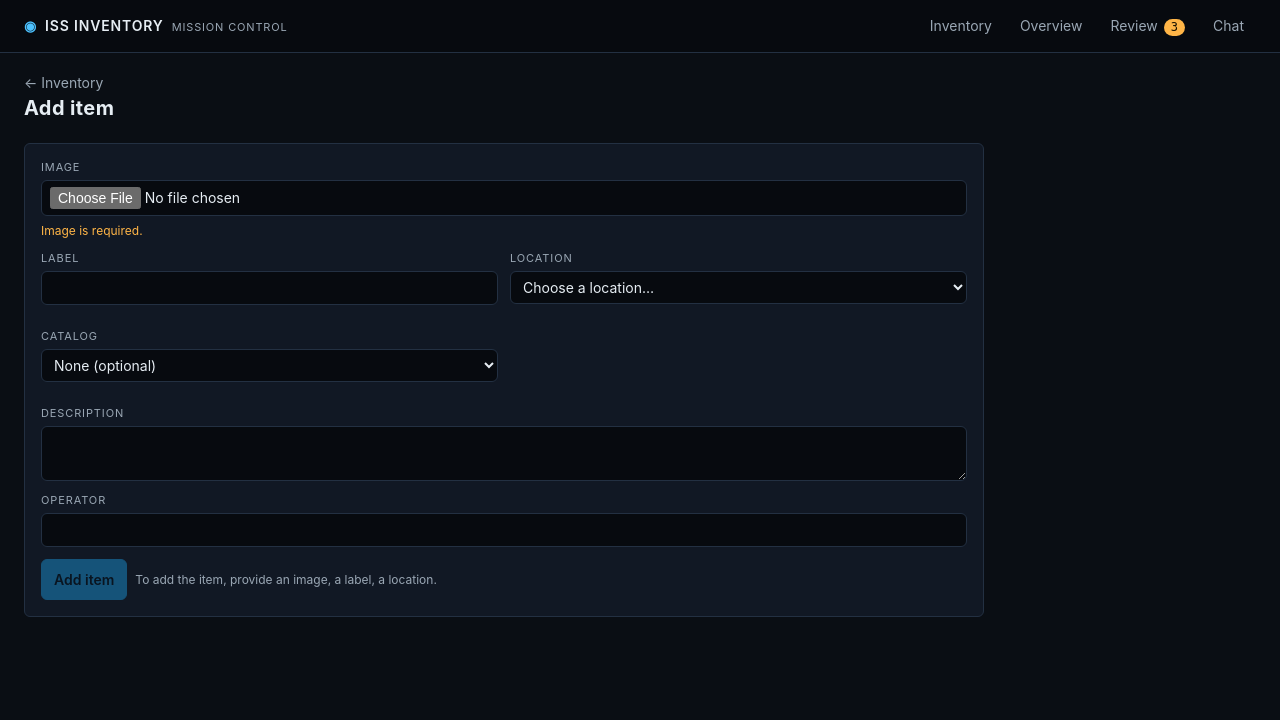
AC-UI-23 add form explains every missing required field › AC-UI-23 label and location errors appear once touched, with aria-invalid and aria-describedby
Expected: the text "label is required" is not shown
Step 1. Click the field labelled "Label" → (270, 288), box [41,271,498,305]
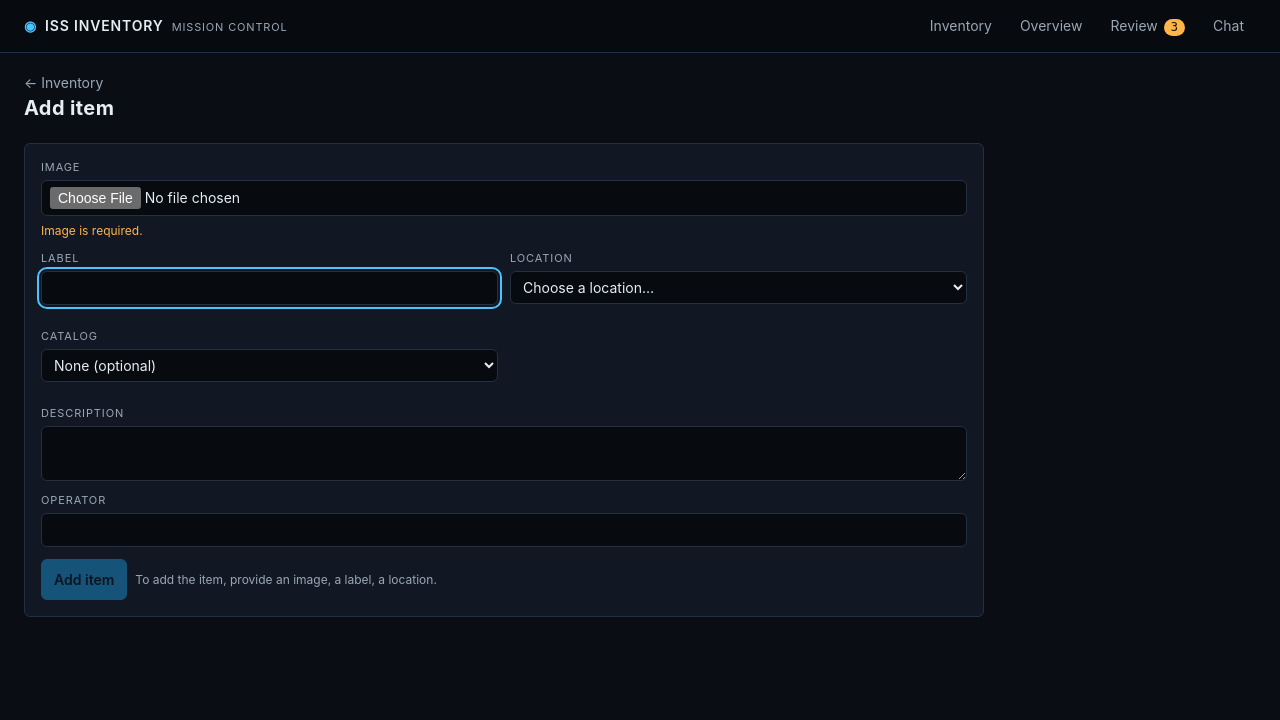
Step 2. Click the dropdown labelled "Location" → (738, 288), box [510,271,967,304]
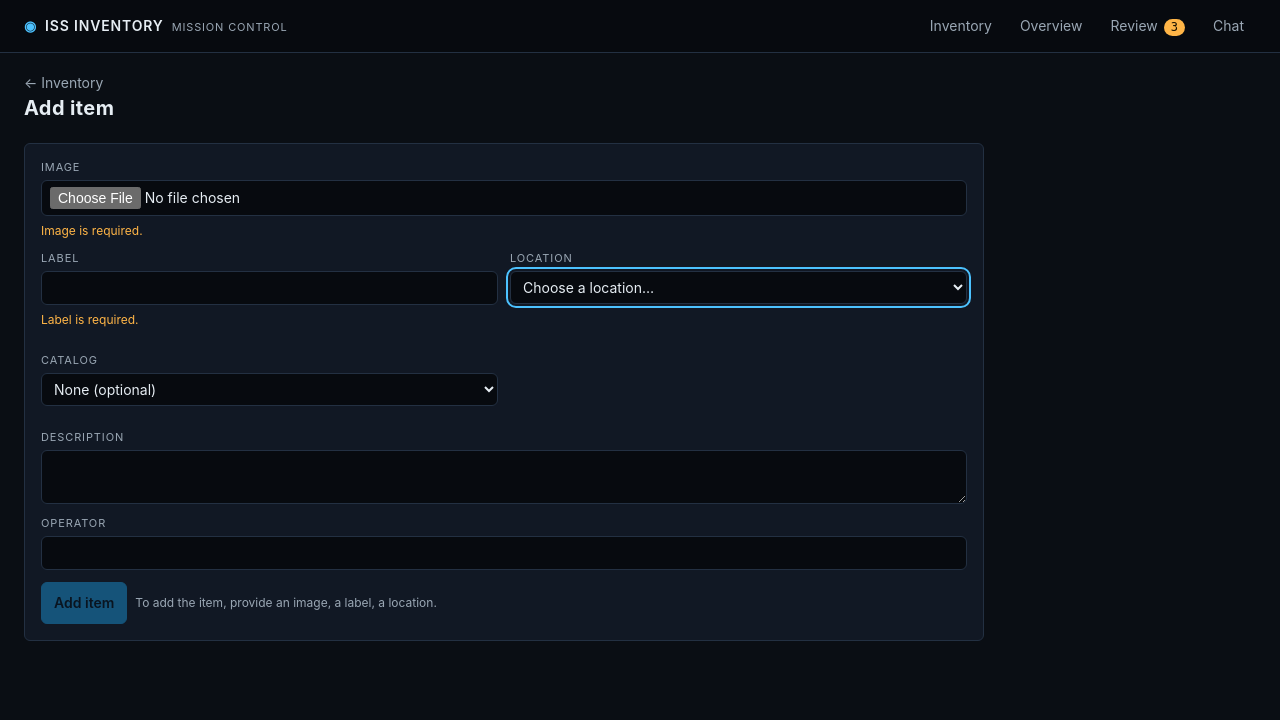
Step 3. Click the text box labelled "Description" → (504, 477), box [41,450,967,504]
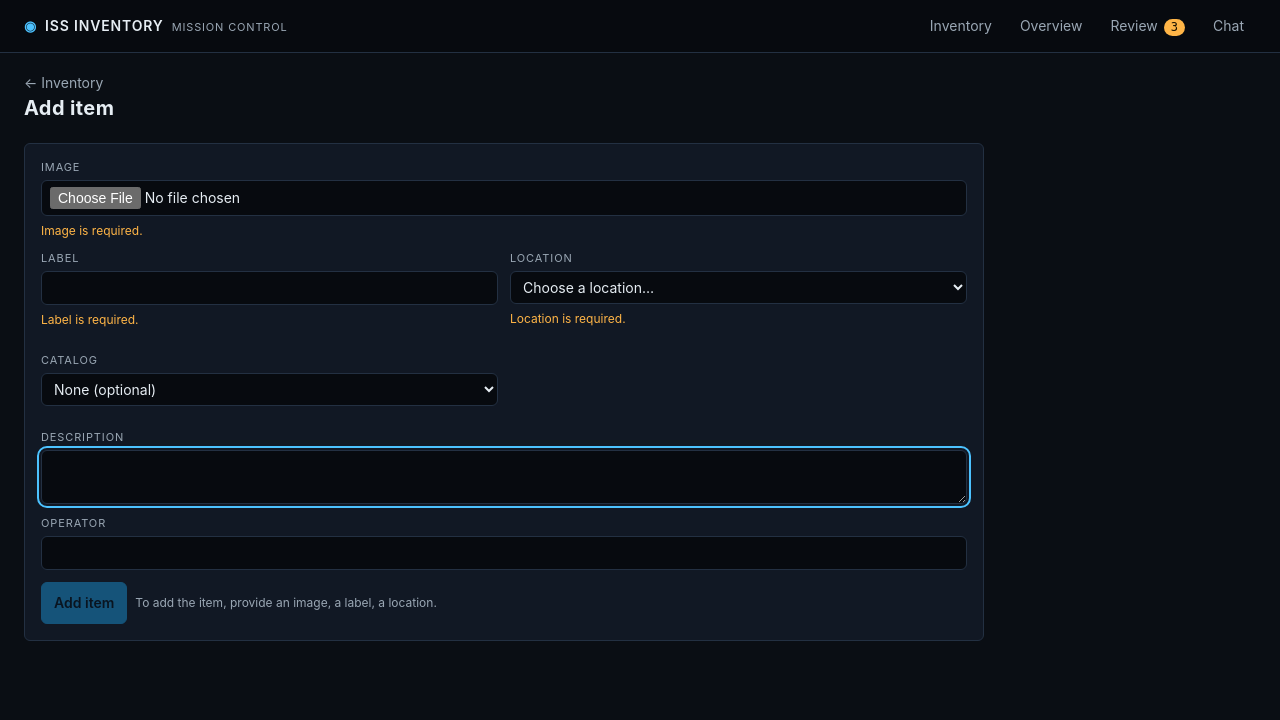
Expected: the text "Label is required." is shown, [41,312,138,327]
Expected: the text "Location is required." is shown, [510,311,626,326]
